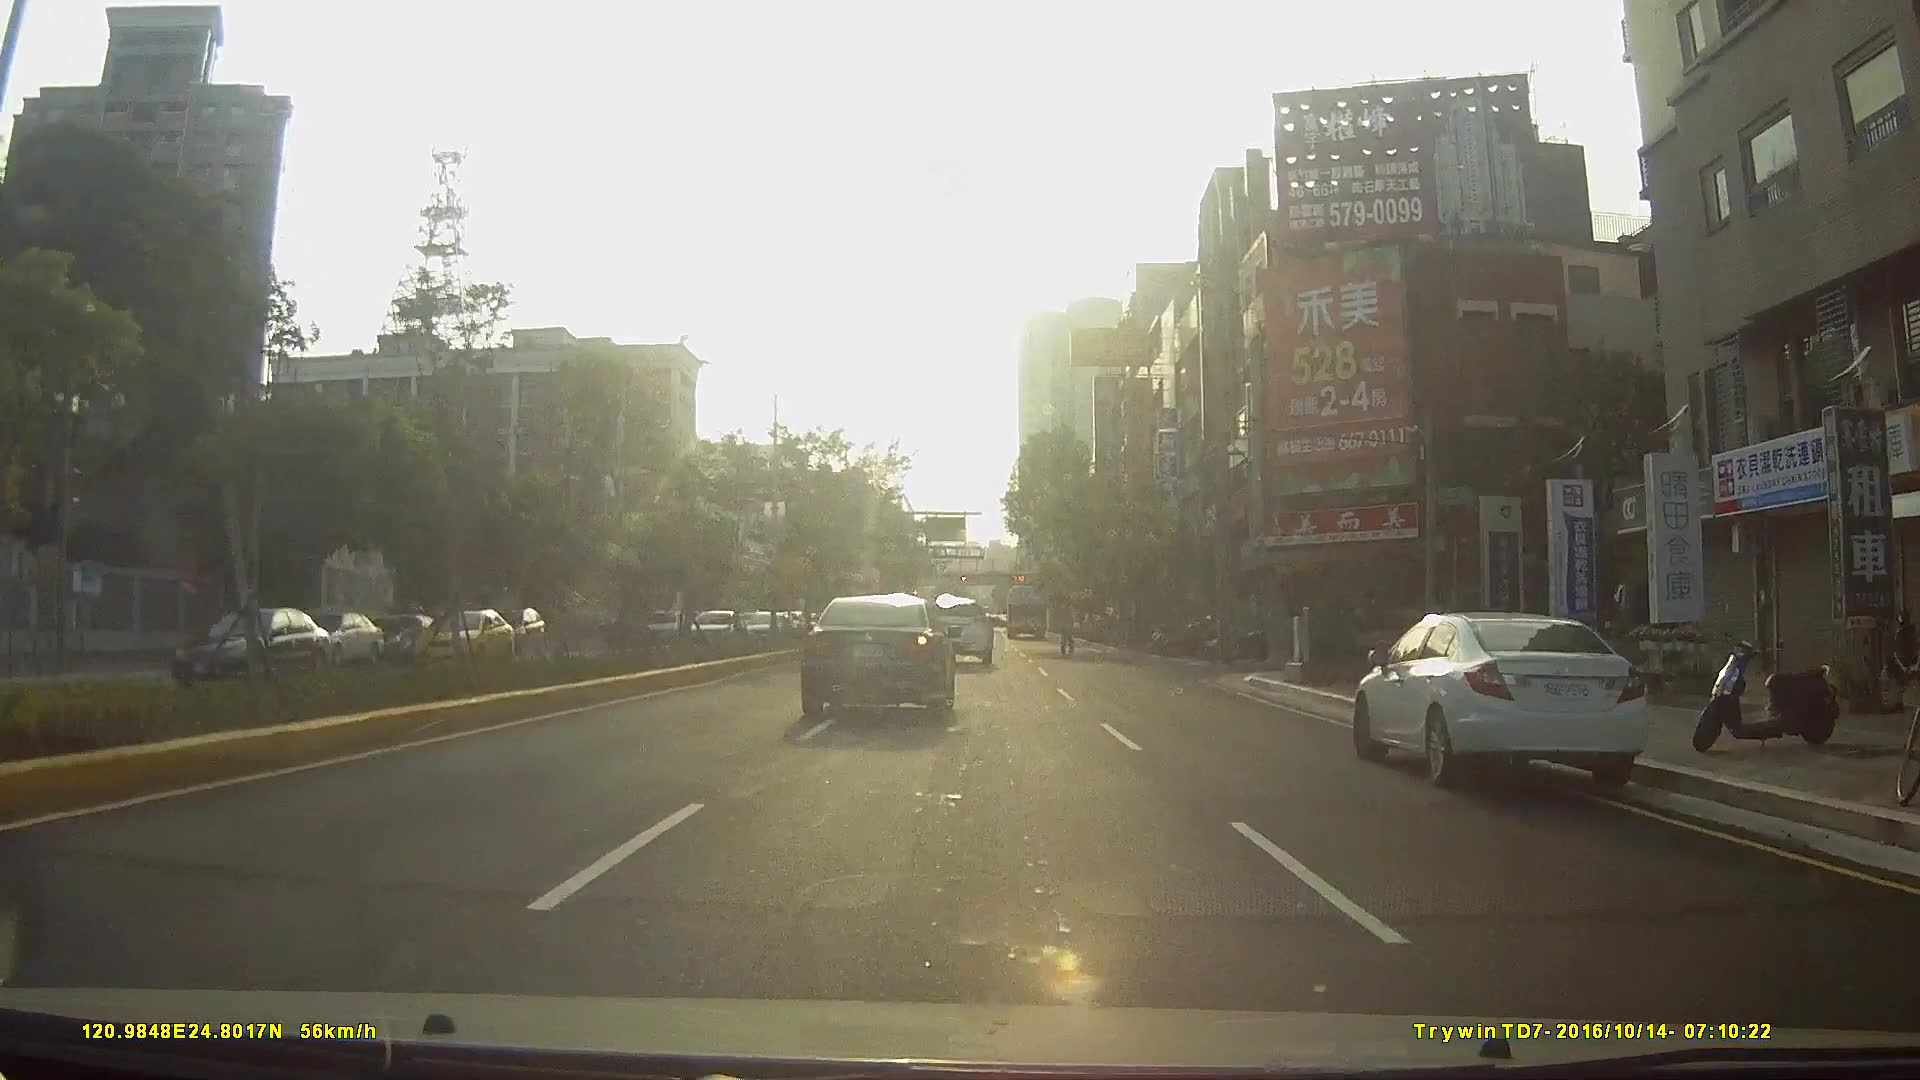vehicle: (1337, 613, 1689, 799), (798, 592, 957, 720), (154, 601, 352, 694), (407, 607, 524, 684), (280, 609, 380, 673), (918, 593, 994, 669), (361, 617, 442, 669), (477, 604, 545, 657), (682, 615, 748, 659), (1004, 585, 1048, 642), (738, 609, 785, 644), (644, 607, 684, 644)
